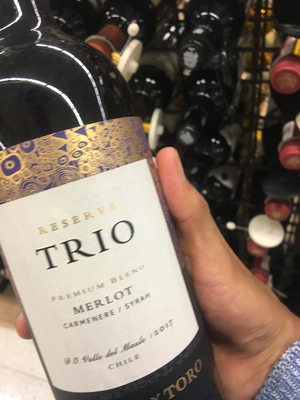trio merlot: (1, 45, 212, 400)
